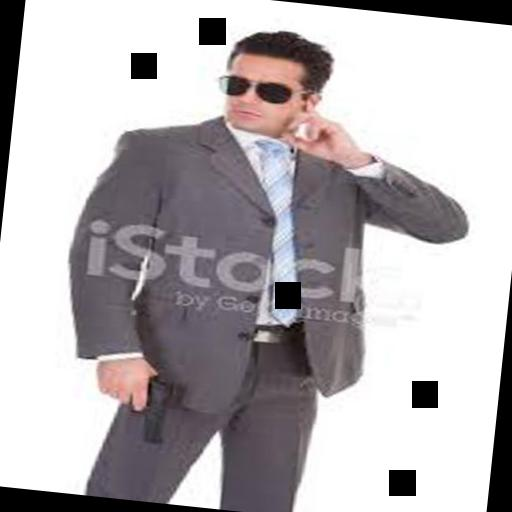Handgun: (82, 367, 176, 449)
